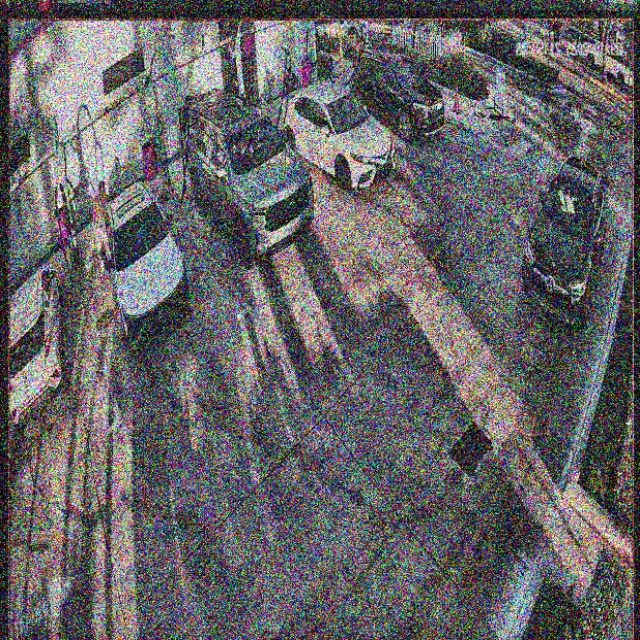Car: (185, 91, 311, 272), (104, 184, 187, 349), (280, 82, 394, 191)
